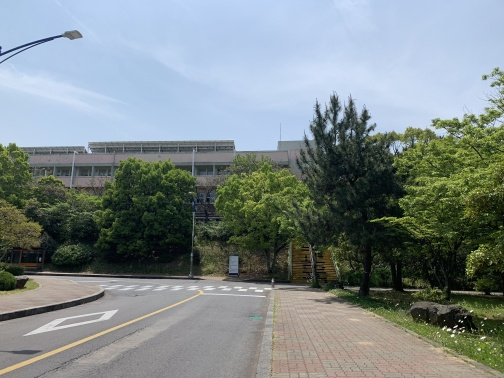College Of Education: (6, 133, 332, 216)
